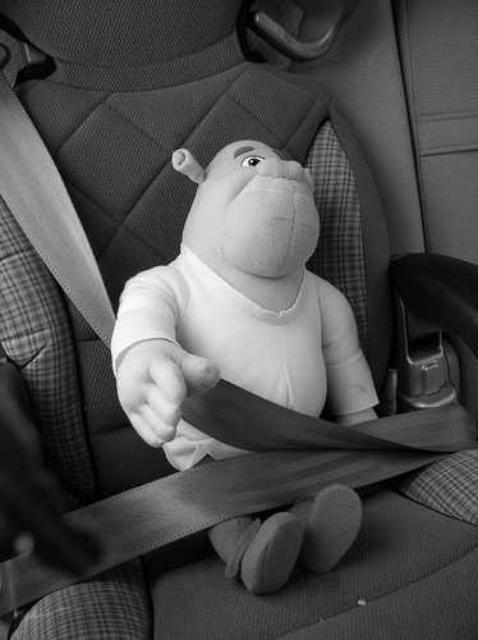Seatbelt: (0, 63, 478, 617)
